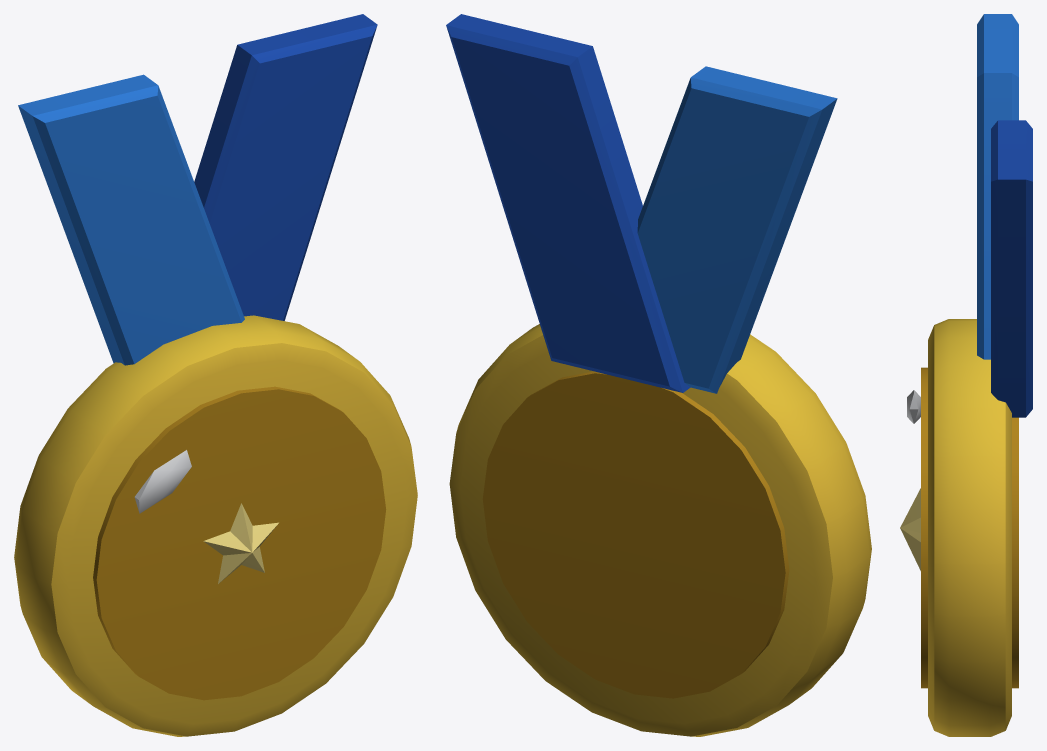
The model's file is ui_season.glb.
3 views of the same model, side by side, from view 1: azimuth 30°, elevation 25°; view 2: azimuth 150°, elevation 25°; view 3: azimuth 270°, elevation 25° (orthographic). The views are drawn at different scales.
Parts seen in each view (by area): view 1: body; view 2: body; view 3: body.
Part boxes in pixels (x1,y1,x2,y2): body: (14, 14, 417, 736); body: (446, 14, 871, 736); body: (900, 14, 1032, 736).
Size of the model in its own units: 0.3 by 0.49 by 0.095.
